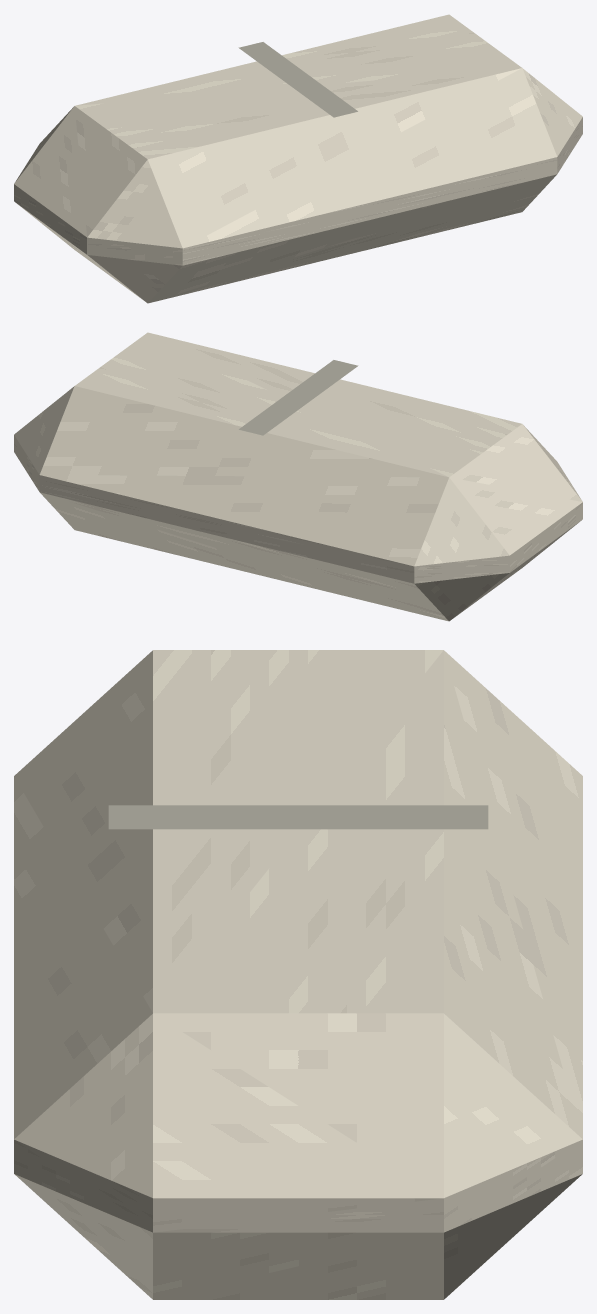
The model's file is acetaminophen.glb.
3 views of the same model, one above another, from view 1: azimuth 30°, elevation 25°; view 2: azimuth 150°, elevation 25°; view 3: azimuth 270°, elevation 25° (orthographic). The views are drawn at different scales.
Visible parts, largest first — view 1: block_oblong caplet, block_centre score; view 2: block_oblong caplet, block_centre score; view 3: block_oblong caplet, block_centre score.
Boxes of the visible parts, <box> form: block_oblong caplet: <box>14,14,582,303</box>; block_centre score: <box>238,42,357,117</box>; block_oblong caplet: <box>14,332,582,621</box>; block_centre score: <box>239,360,358,435</box>; block_oblong caplet: <box>14,650,582,1299</box>; block_centre score: <box>108,805,488,829</box>.
Size of the model in its own units: 0.018 by 0.00525 by 0.009.
1 material, 1 textured.
